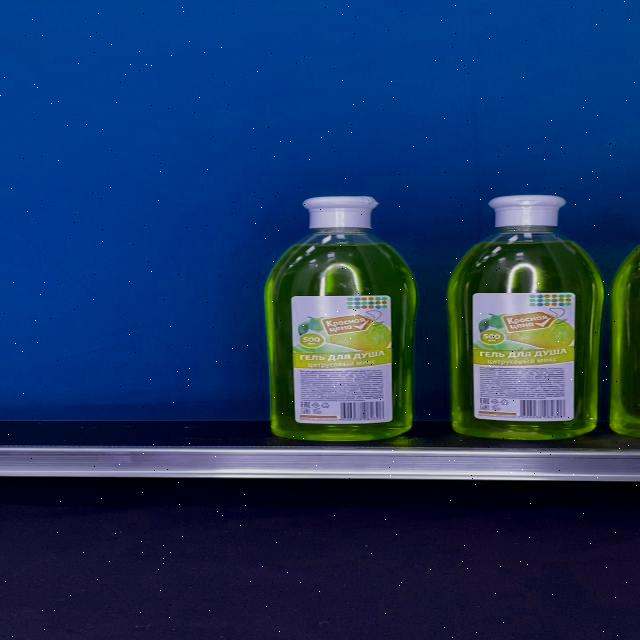Bottle: (448, 194, 604, 438), (266, 195, 416, 441)
Cap: (487, 194, 568, 227), (301, 195, 378, 229)
